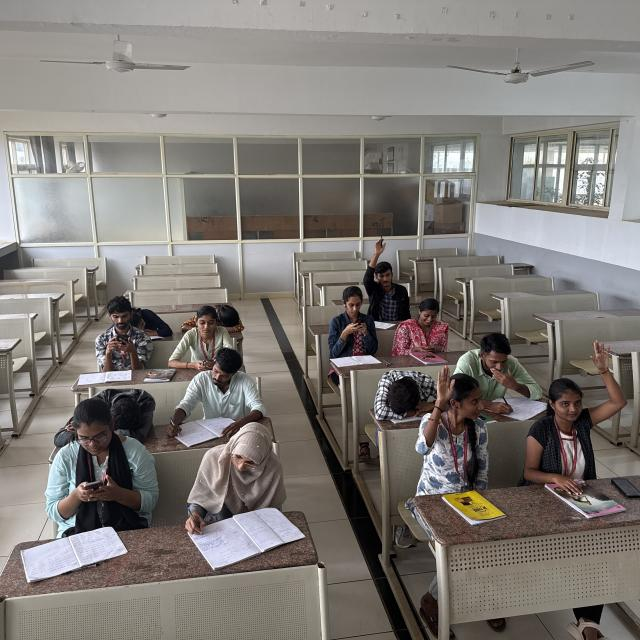Hand Rising: (525, 337, 626, 469), (420, 364, 484, 473), (362, 236, 408, 314)
Sleeping: (51, 386, 152, 446), (375, 365, 437, 427), (182, 300, 244, 334), (128, 303, 173, 337)
Using Phone: (43, 404, 160, 523), (166, 307, 237, 371), (94, 296, 149, 369), (394, 296, 452, 354), (328, 284, 375, 347)
Writing: (184, 419, 279, 548), (165, 350, 254, 442), (457, 332, 547, 418)
